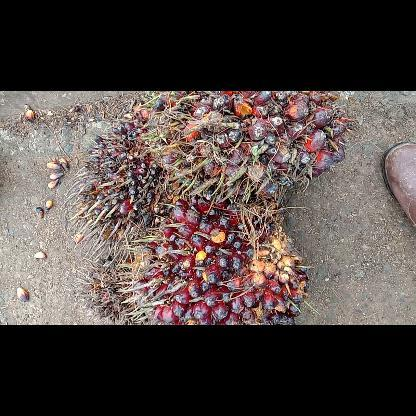TBS abnormal: (64, 107, 176, 262), (72, 246, 148, 324)
TBS masak: (135, 92, 355, 210), (115, 194, 312, 324)
